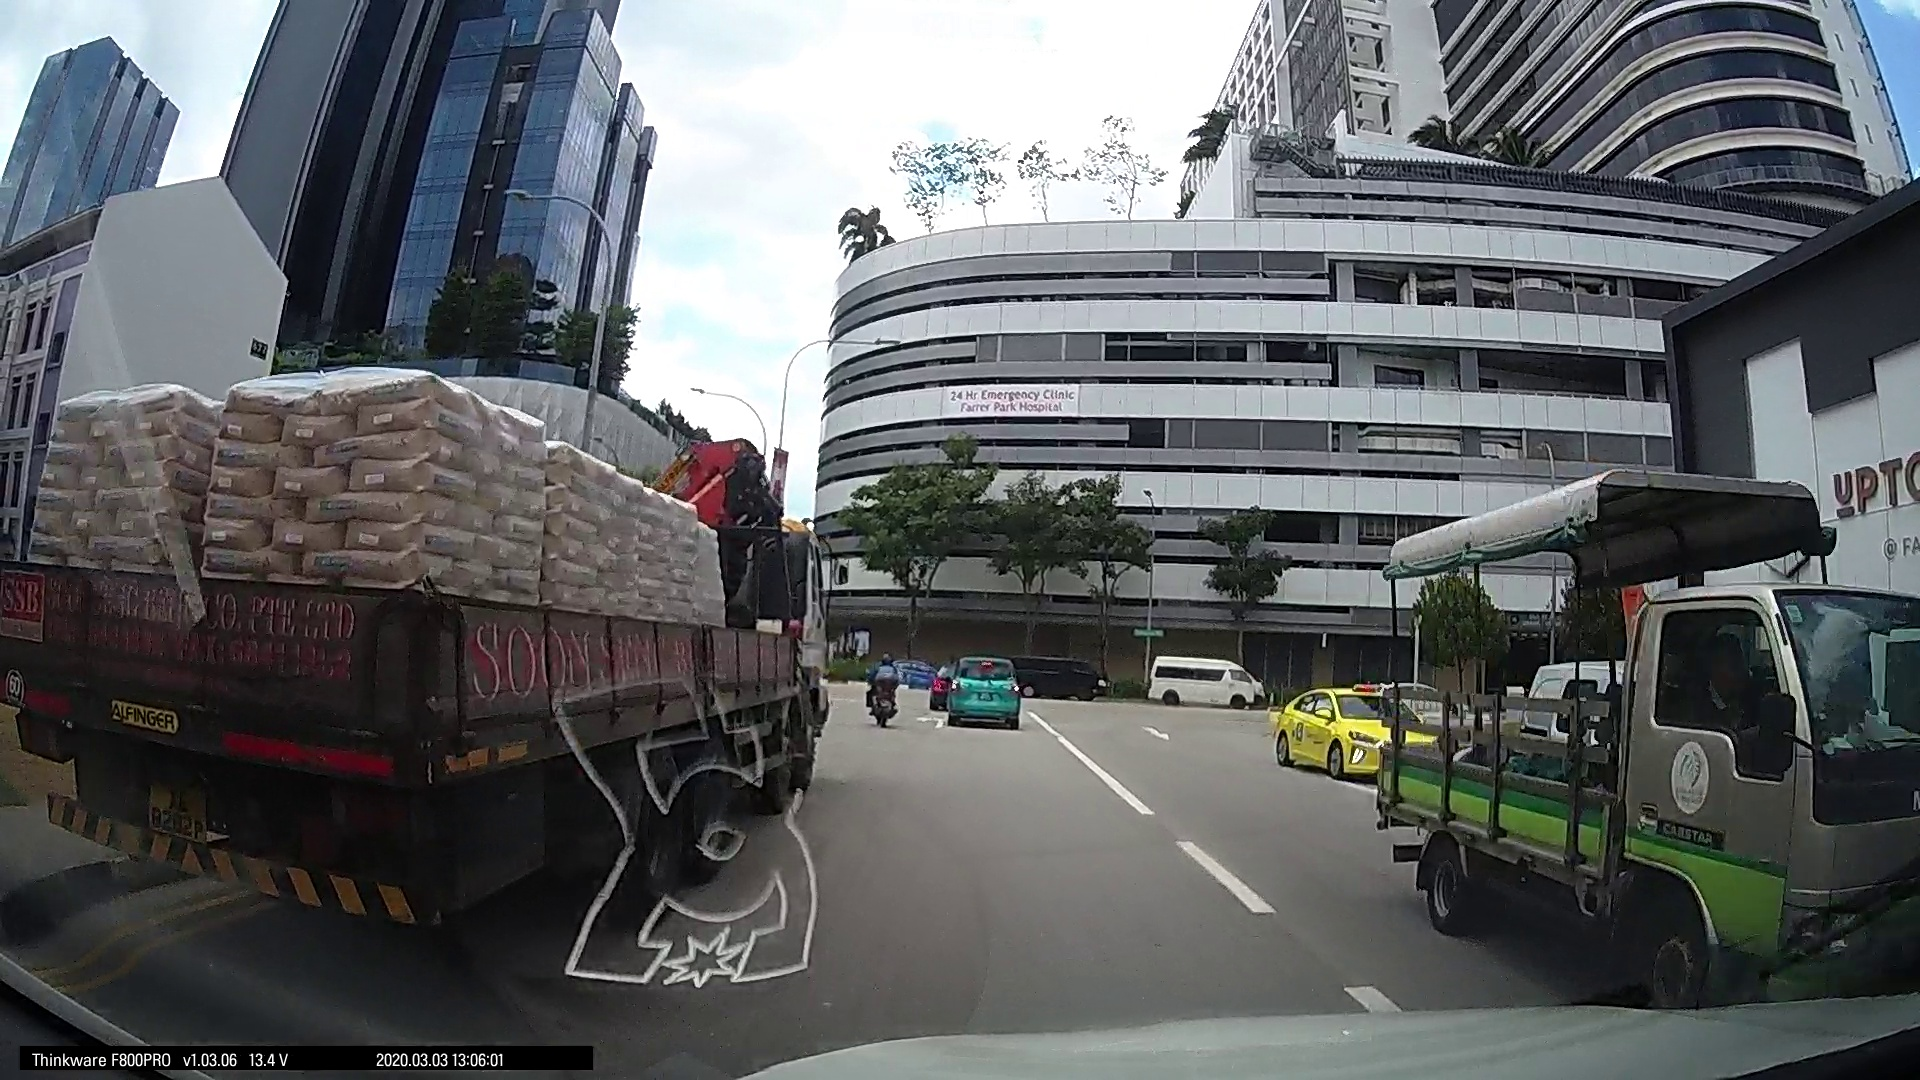Heavy Vehicle: (11, 342, 816, 942), (1419, 458, 1911, 1002)
Light Vehicle: (1267, 682, 1418, 782), (1138, 651, 1263, 712), (939, 655, 1021, 727)
